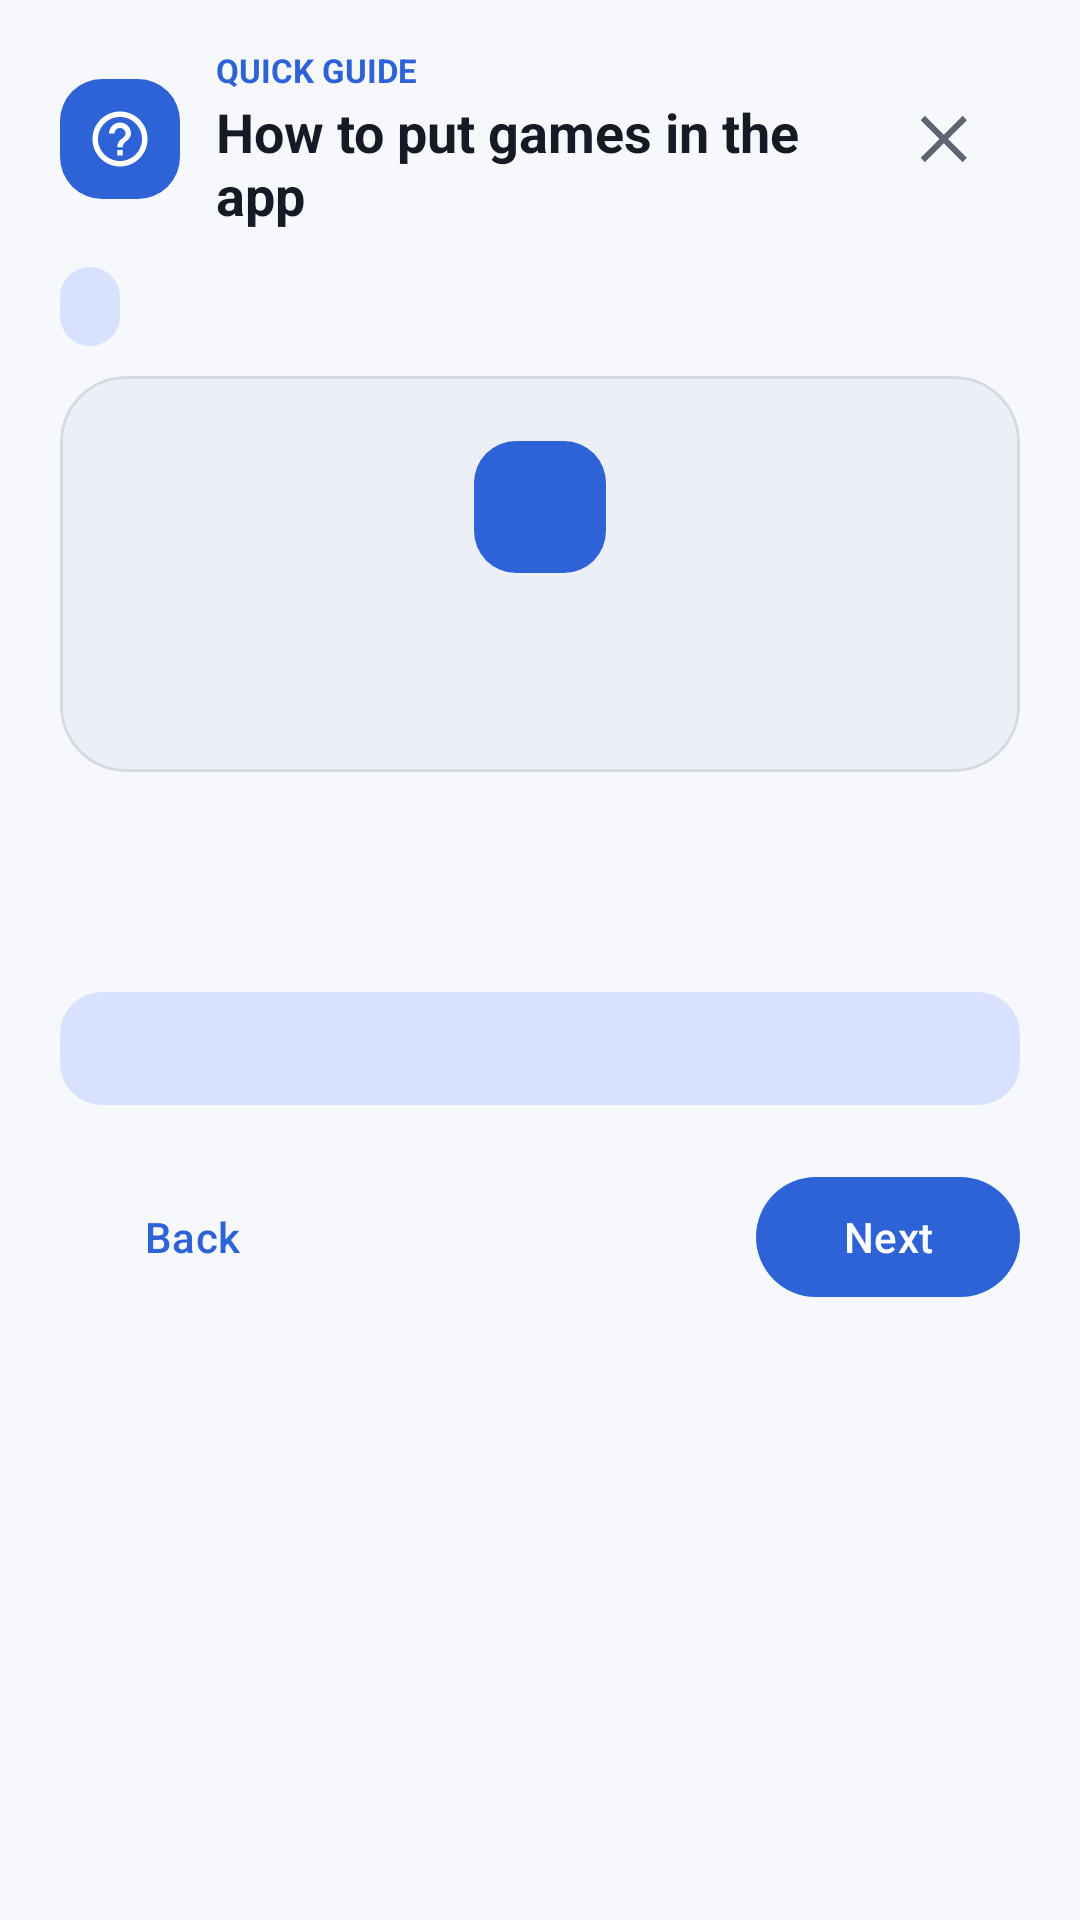

Where to tap for icons on this 1080w x 1920h app screen, as point (x, y):
Close tutorial: point (944, 139)
